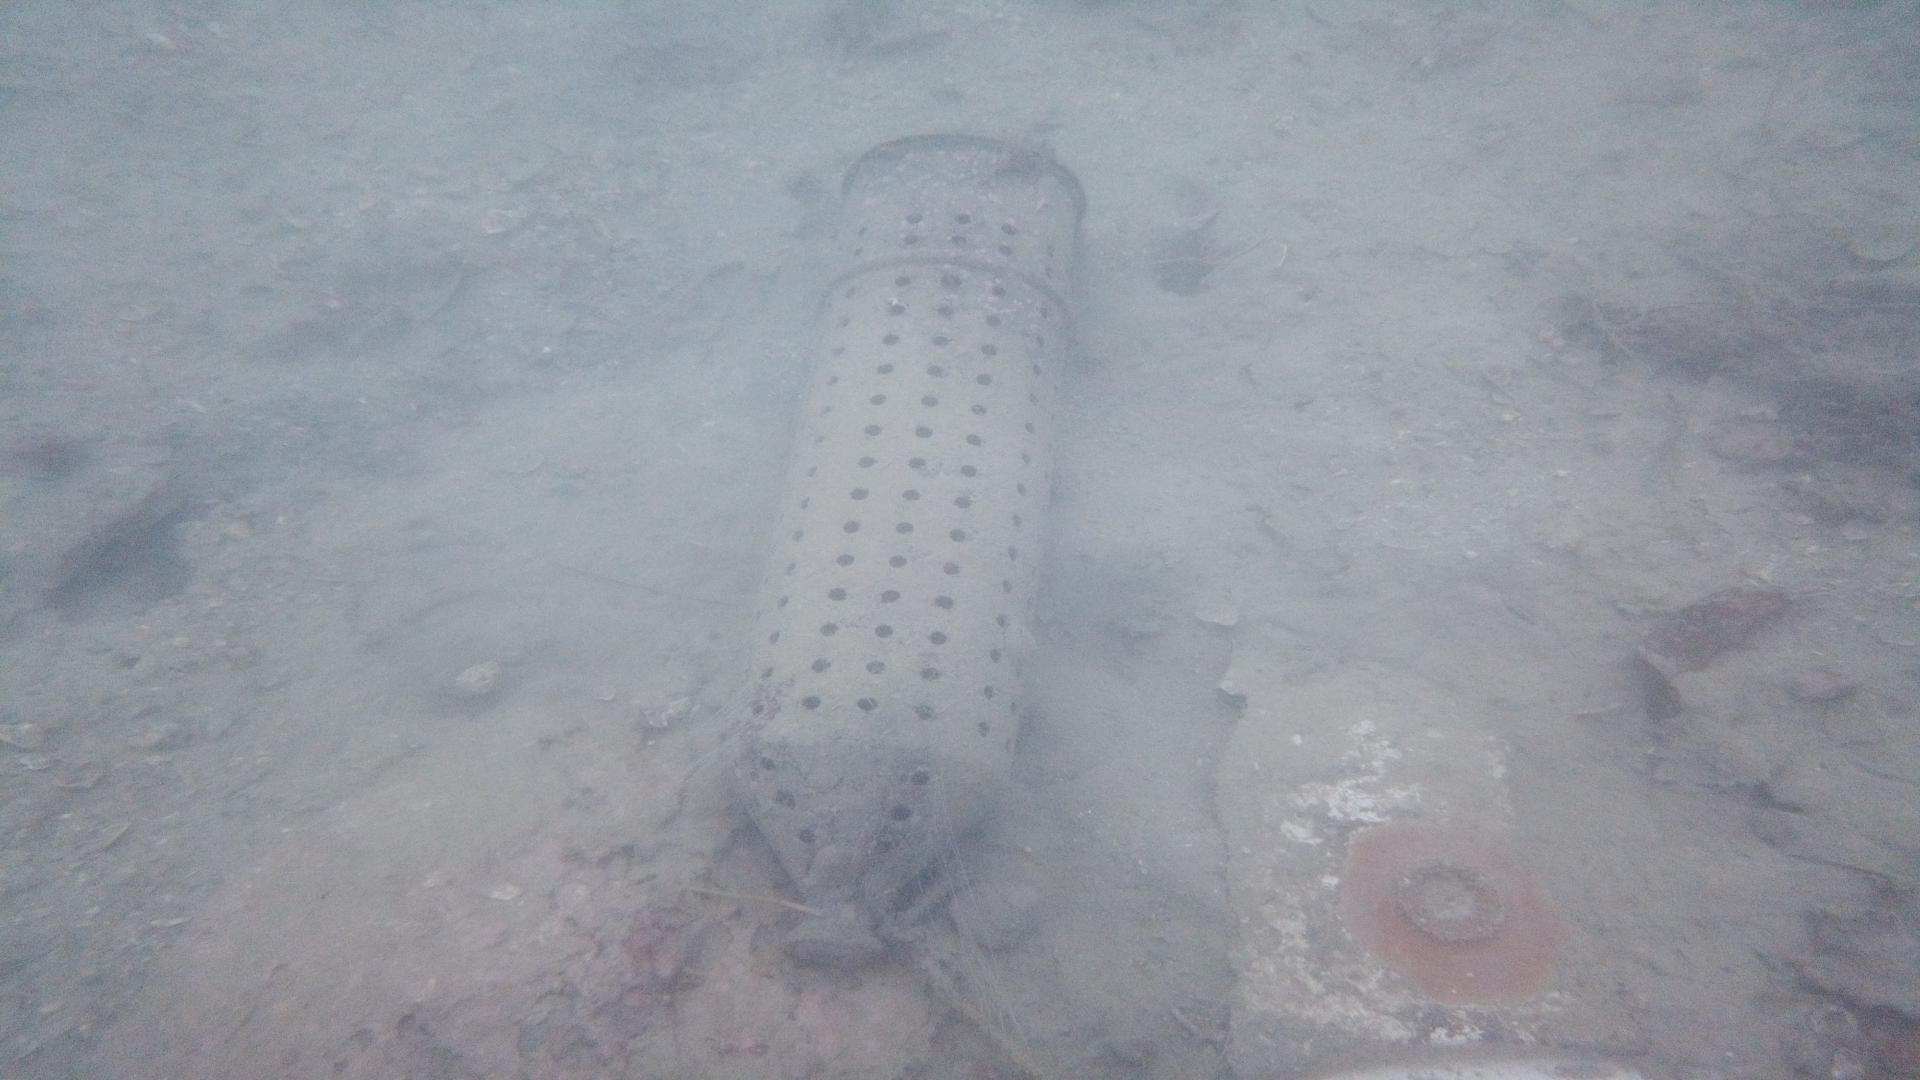eel fish trap: (725, 115, 1098, 976)
